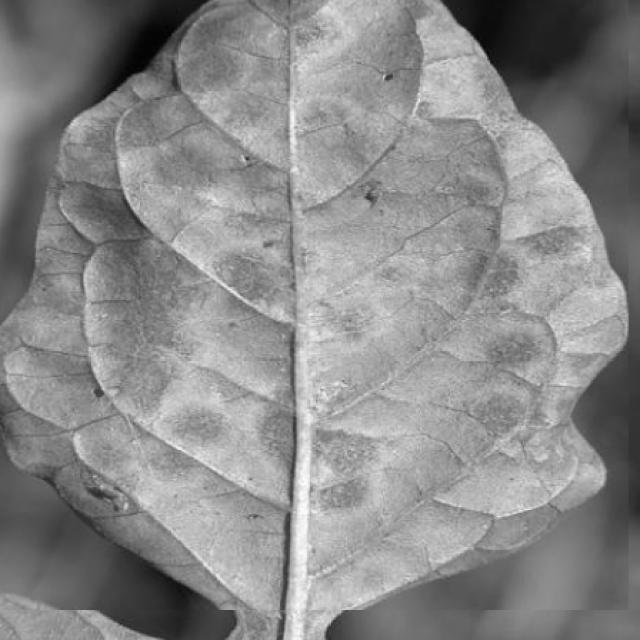Leaf Mold: (0, 0, 629, 610)
